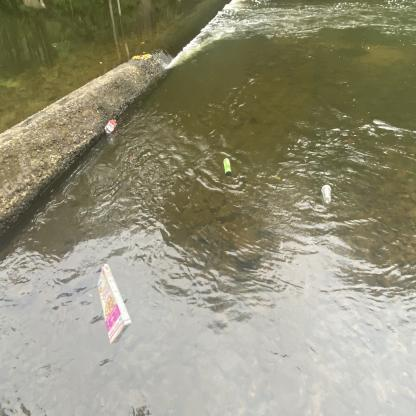trash: (94, 260, 136, 354), (318, 182, 335, 209), (102, 116, 119, 136), (221, 155, 232, 177)
